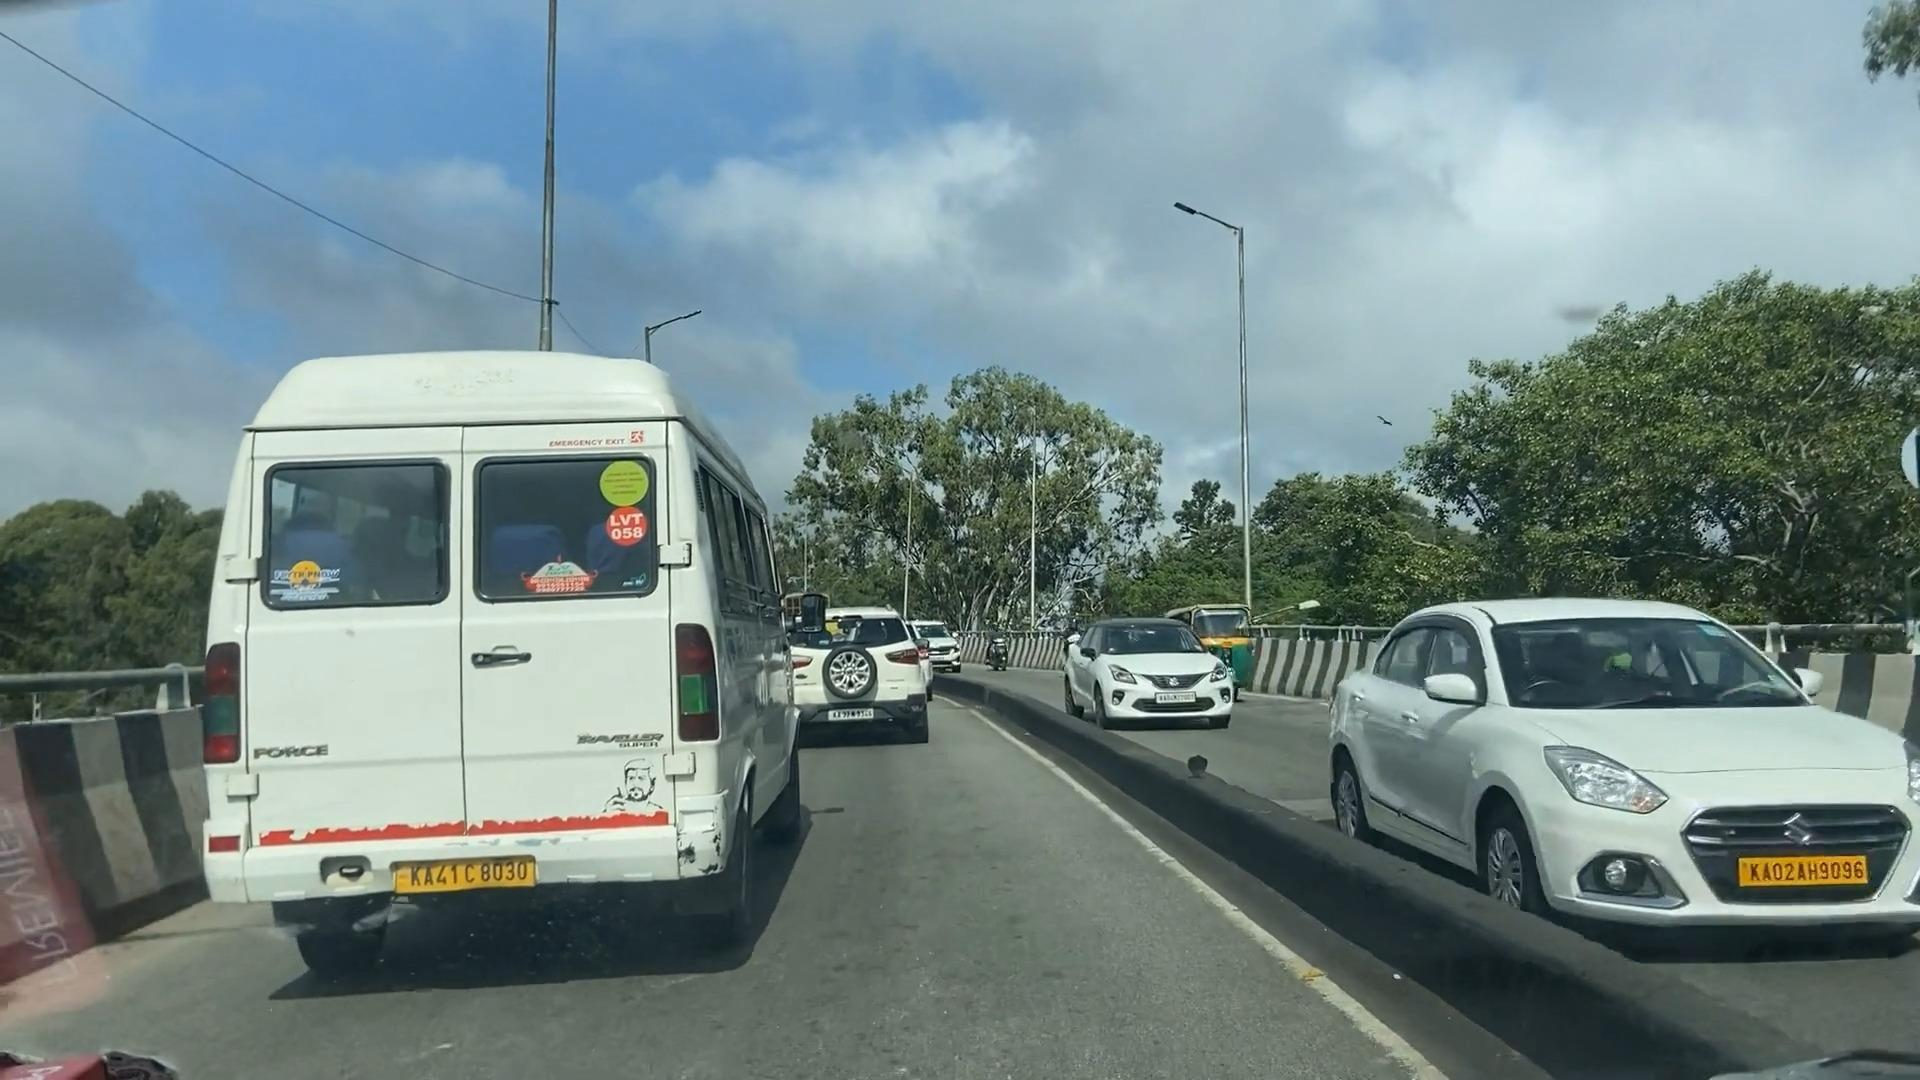HMV: (195, 344, 789, 931)
LMV: (783, 601, 928, 745)
